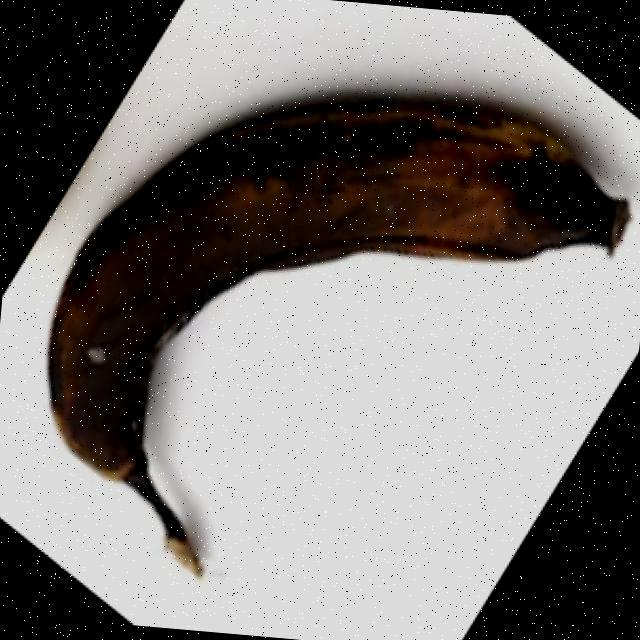Rotten: (25, 61, 640, 614)
